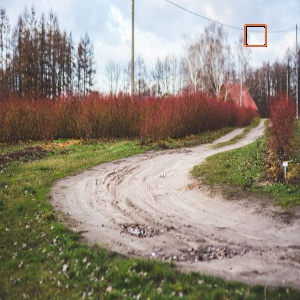square: (240, 22, 271, 50)
